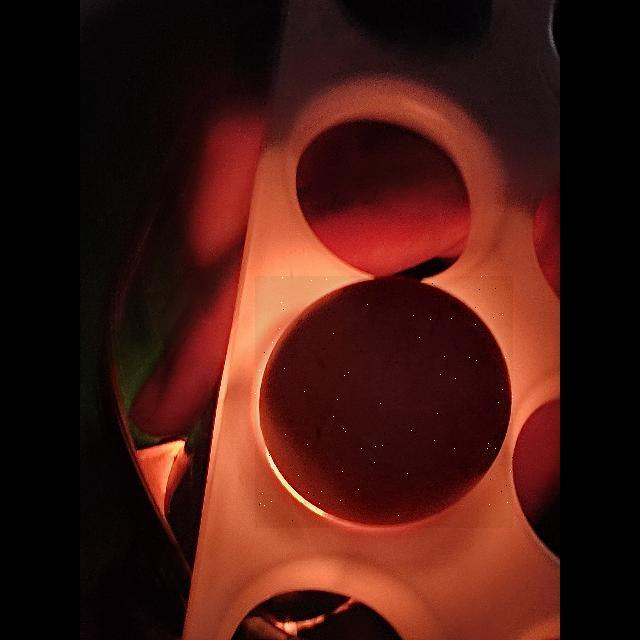A - Good: (247, 271, 520, 538)
